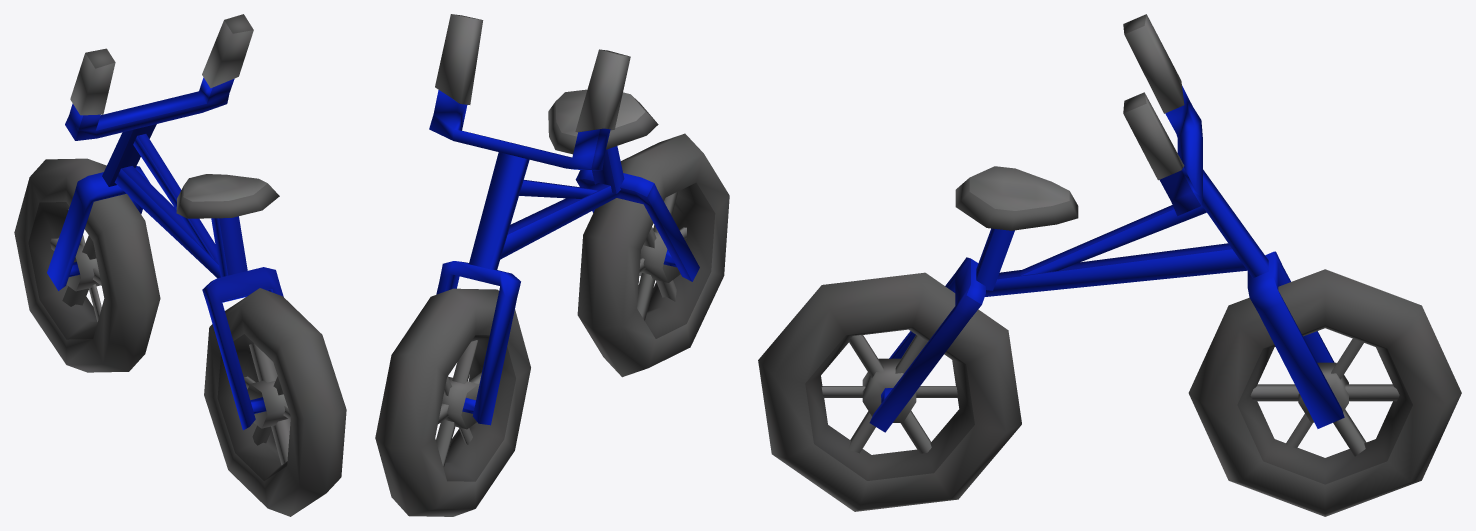
Rendered from BicicletaAzul.fbx.
3 renders of one model, left to right at view 1: azimuth 30°, elevation 25°; view 2: azimuth 150°, elevation 25°; view 3: azimuth 270°, elevation 25°, orthographic. The views are drawn at different scales.
Parts seen in each view (by area): view 1: Bicicleta; view 2: Bicicleta; view 3: Bicicleta.
Part boxes in pixels (box(x1,y1,x2,y2)): Bicicleta: box(14, 14, 346, 516); Bicicleta: box(375, 14, 729, 516); Bicicleta: box(758, 14, 1461, 516).
Size of the model in its own units: 32.57 by 77.66 by 108.
